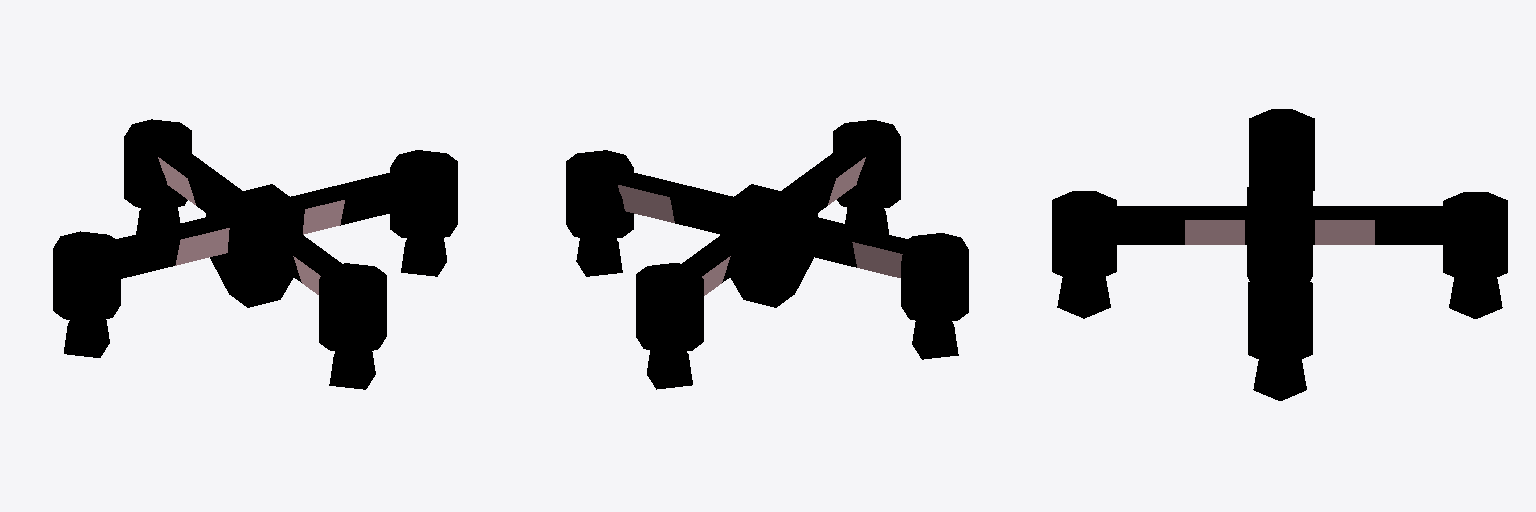
The picture shows the model from 3 angles: view 1: azimuth 30°, elevation 25°; view 2: azimuth 150°, elevation 25°; view 3: azimuth 270°, elevation 25°; orthographic projection.
Visible parts, largest first — view 1: Cube.016, Cube.020, Cube.019, Cube.010, Cube.017, Cube.015, Cube.018; view 2: Cube.016, Cube.018, Cube.019, Cube.010, Cube.017, Cube.015, Cube.020; view 3: Cube.015, Cube.017, Cube.018, Cube.020, Cube.010, Cube.019, Cube.016.
Boxes of the visible parts, <box> form: Cube.016: <box>116,173,408,278</box>; Cube.020: <box>319,263,386,389</box>; Cube.019: <box>53,231,120,357</box>; Cube.010: <box>204,184,304,307</box>; Cube.017: <box>390,150,457,276</box>; Cube.015: <box>156,149,341,294</box>; Cube.018: <box>124,119,191,233</box>; Cube.016: <box>616,173,907,277</box>; Cube.018: <box>636,263,703,389</box>; Cube.019: <box>901,233,968,359</box>; Cube.010: <box>719,184,819,307</box>; Cube.017: <box>566,150,633,276</box>; Cube.015: <box>682,149,867,295</box>; Cube.020: <box>833,120,900,234</box>; Cube.015: <box>1112,206,1446,244</box>; Cube.017: <box>1248,274,1312,400</box>; Cube.018: <box>1443,192,1507,318</box>; Cube.020: <box>1052,191,1116,318</box>; Cube.010: <box>1247,187,1312,281</box>; Cube.019: <box>1249,109,1314,190</box>; Cube.016: <box>1264,142,1295,275</box>.
Size of the model in its own units: 13.91 by 3.52 by 14.
Materials: 1 (1 with a texture image).